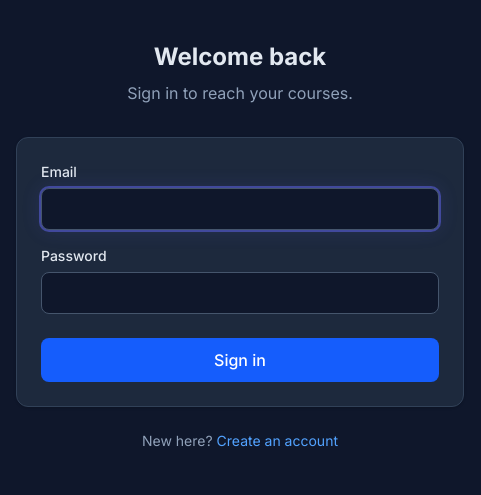
Test: Login page › shows the wait time on a 429
In the field labelled "Email": (240, 209) [41, 188, 439, 230], type "ada@example.com"
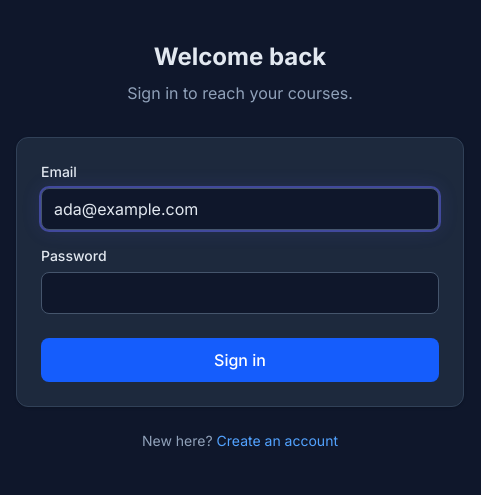
In the password field labelled "Password": (240, 293) [41, 272, 439, 314], type "correct horse battery staple"
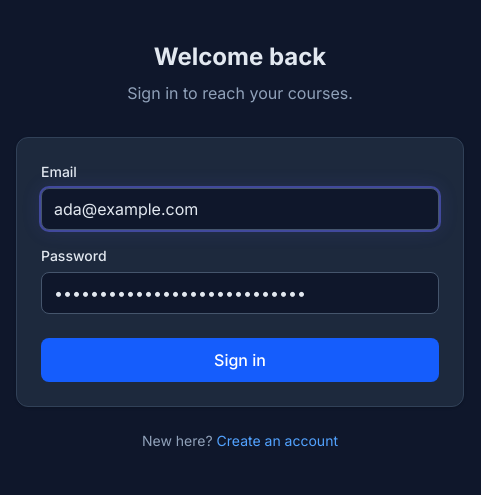
Click the button "Sign in": (240, 360) [41, 338, 439, 382]
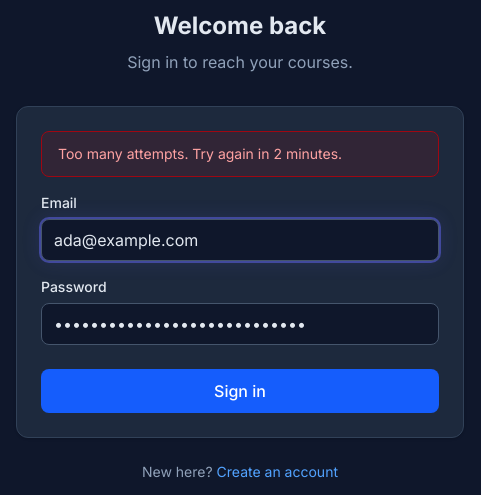
Check: the message shows "Try again in 2 minutes.", box [58, 145, 342, 162]
